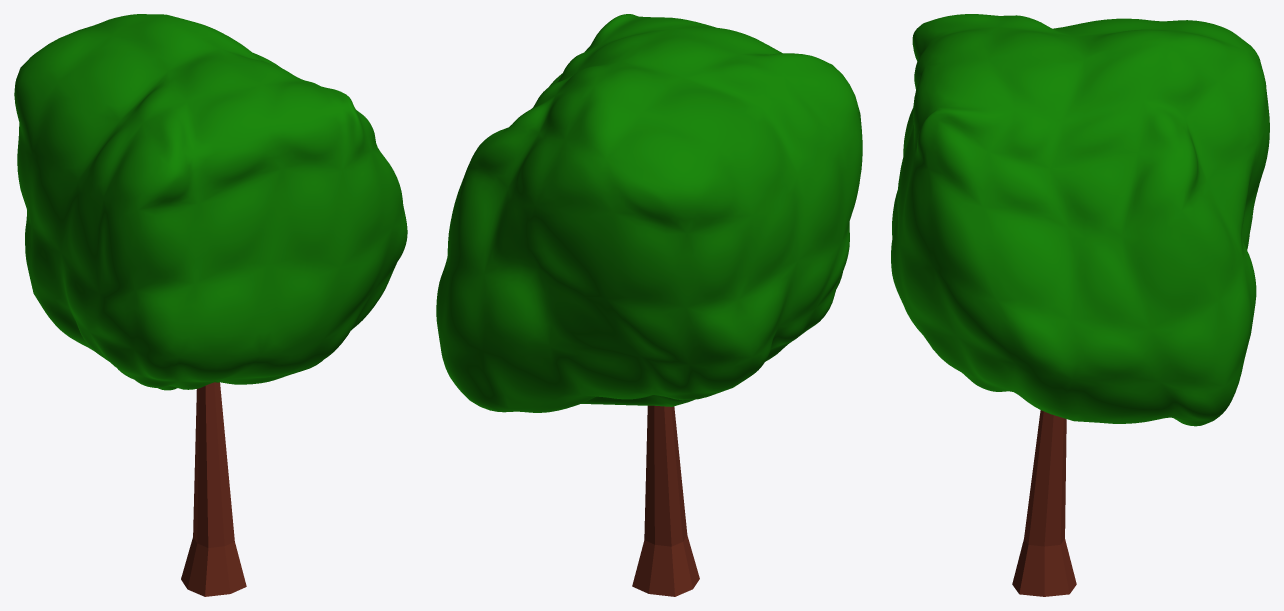
Rendered from Baum1.fbx.
3 renders of one model, left to right at view 1: azimuth 30°, elevation 25°; view 2: azimuth 150°, elevation 25°; view 3: azimuth 270°, elevation 25°, orthographic. The views are drawn at different scales.
Visible parts, largest first — view 1: Cube.003, Cube.001; view 2: Cube.003, Cube.001; view 3: Cube.003, Cube.001.
Boxes of the visible parts, x1,y1,x2,y2 form: Cube.003: (14,14,407,390); Cube.001: (181,382,246,596); Cube.003: (436,14,862,412); Cube.001: (632,405,699,596); Cube.003: (891,14,1269,426); Cube.001: (1012,410,1076,596).
Size of the model in its own units: 1580 by 2402 by 1504.
